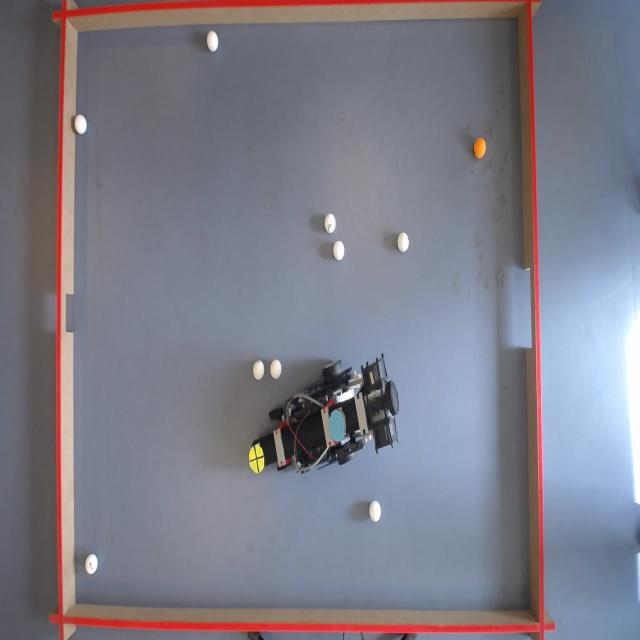orange: (473, 136, 488, 157)
robot: (249, 361, 406, 474)
robot-front: (248, 443, 264, 475)
robot-rear: (329, 411, 347, 443)
white: (74, 113, 88, 136), (368, 500, 382, 522), (207, 31, 220, 52), (86, 554, 99, 575), (397, 233, 409, 254), (333, 240, 345, 260), (272, 359, 284, 379), (252, 360, 263, 380), (324, 213, 336, 231)
